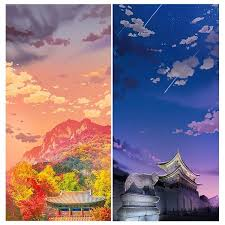mountain: (16, 117, 109, 170)
sky: (114, 5, 216, 152), (7, 6, 110, 128)
